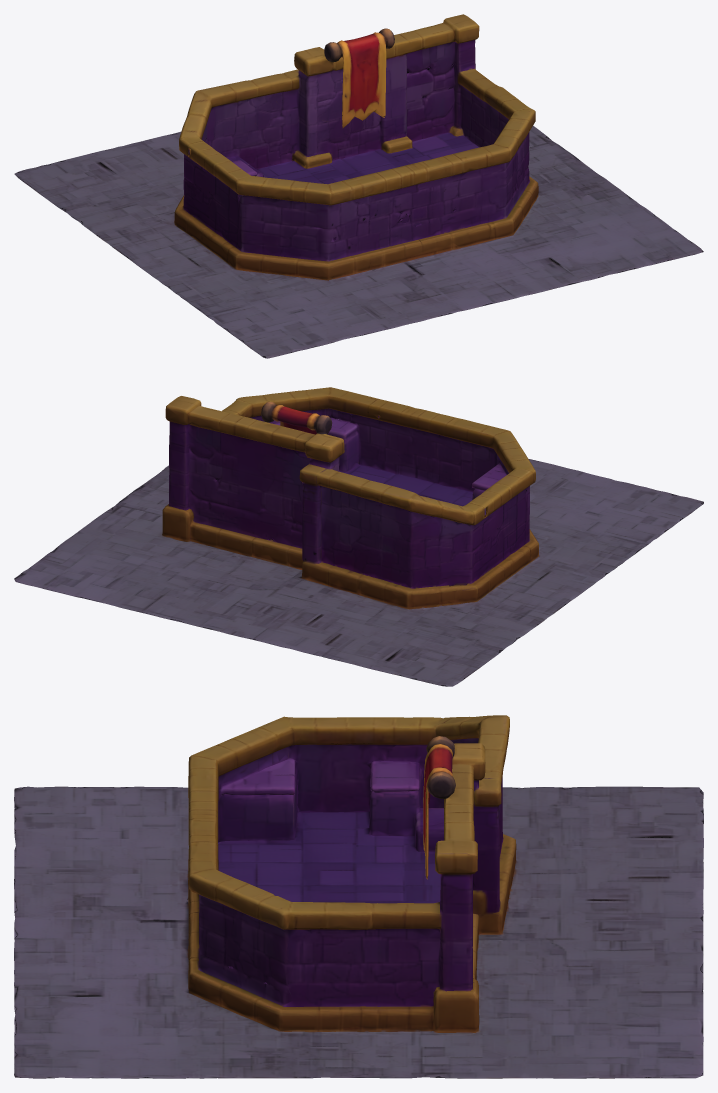
Rendered from arena_wall_t1.glb.
The picture shows the model from 3 angles, top to bottom: view 1: azimuth 30°, elevation 25°; view 2: azimuth 150°, elevation 25°; view 3: azimuth 270°, elevation 25°; orthographic projection. The views are drawn at different scales.
Parts seen in each view (by area): view 1: geometry_0; view 2: geometry_0; view 3: geometry_0.
Boxes of the visible parts, x1,y1,x2,y2 form: geometry_0: [14, 14, 703, 358]; geometry_0: [14, 387, 703, 686]; geometry_0: [14, 715, 703, 1078].
Bounding box in the file's own units: 0.9996 × 0.3206 × 1.
1 material, 1 textured.
